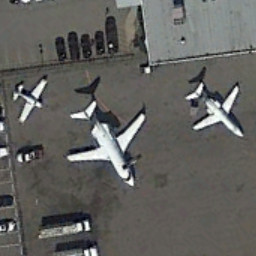Airplane: (63, 94, 150, 196), (178, 75, 251, 152), (6, 74, 52, 130)
